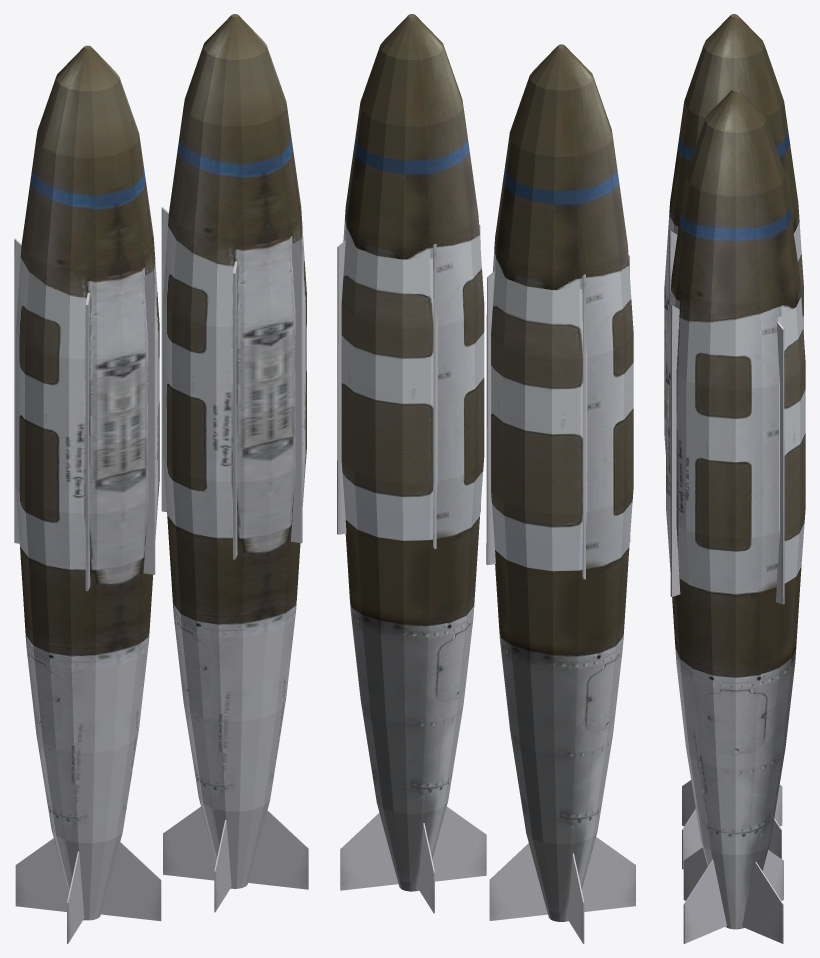
The model's file is bomb.obj.
3 views of the same model, side by side, from view 1: azimuth 30°, elevation 25°; view 2: azimuth 150°, elevation 25°; view 3: azimuth 270°, elevation 25° (orthographic). The views are drawn at different scales.
Visible parts, largest first — view 1: Mesh.114_Part146, Mesh.087_Part155; view 2: Mesh.087_Part155, Mesh.114_Part146; view 3: Mesh.114_Part146, Mesh.087_Part155.
Boxes of the visible parts, x1,y1,x2,y2 form: Mesh.114_Part146: [161, 14, 308, 912]; Mesh.087_Part155: [14, 45, 161, 943]; Mesh.087_Part155: [486, 44, 635, 943]; Mesh.114_Part146: [337, 14, 486, 913]; Mesh.114_Part146: [666, 88, 805, 943]; Mesh.087_Part155: [664, 14, 803, 869].
Size of the model in its own units: 1.28 by 3.89 by 0.593.
Materials: 1 (1 with a texture image).
